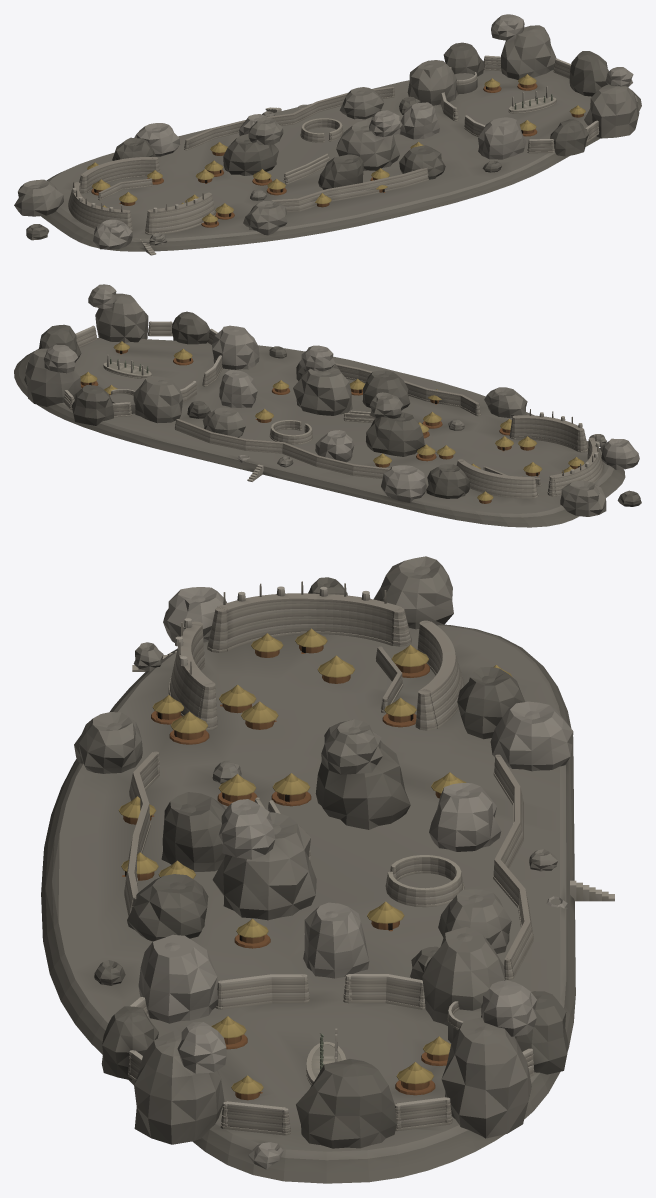
The model's file is hill-complex.glb.
3 renders of one model, top to bottom at view 1: azimuth 30°, elevation 25°; view 2: azimuth 150°, elevation 25°; view 3: azimuth 270°, elevation 25°, orthographic. The views are drawn at different scales.
Visible parts, largest first — view 1: p0_kopje, p1_walls, p3_houses, p2_birds-and-turrets; view 2: p0_kopje, p1_walls, p3_houses, p2_birds-and-turrets; view 3: p0_kopje, p1_walls, p3_houses, p2_birds-and-turrets.
Part boxes in pixels (left/top/right/bottom): p0_kopje: left=14, top=14, right=641, bottom=251; p1_walls: left=68, top=55, right=599, bottom=255; p3_houses: left=87, top=74, right=585, bottom=227; p2_birds-and-turrets: left=72, top=86, right=556, bottom=212; p0_kopje: left=14, top=284, right=641, bottom=527; p1_walls: left=64, top=321, right=603, bottom=498; p3_houses: left=80, top=341, right=584, bottom=503; p2_birds-and-turrets: left=103, top=355, right=599, bottom=475; p0_kopje: left=41, top=556, right=575, bottom=1183; p1_walls: left=124, top=593, right=614, bottom=1135; p3_houses: left=118, top=628, right=512, bottom=1100; p2_birds-and-turrets: left=175, top=581, right=386, bottom=1085.
Bounding box in the file's own units: 283 × 26.92 × 116.
